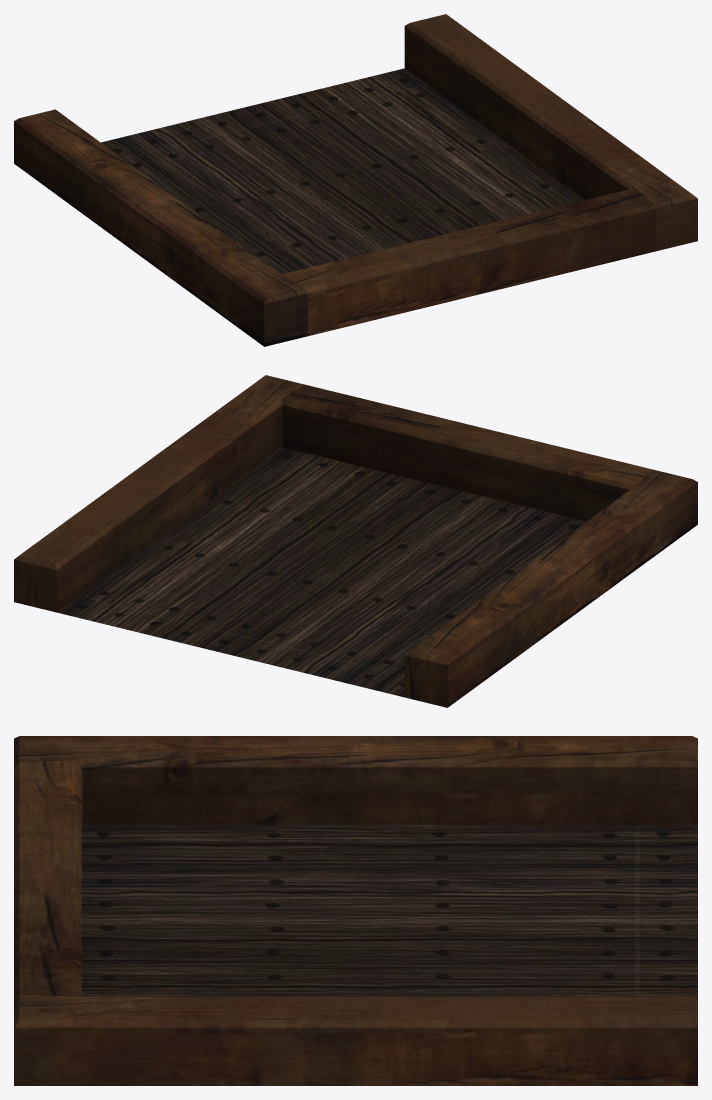
File: Roof001_Flat01.obj
The picture shows the model from 3 angles, top to bottom: view 1: azimuth 30°, elevation 25°; view 2: azimuth 150°, elevation 25°; view 3: azimuth 270°, elevation 25°; orthographic projection. The views are drawn at different scales.
Visible parts, largest first — view 1: Roof001_Flat011; view 2: Roof001_Flat011; view 3: Roof001_Flat011.
Part boxes in pixels (box(x1,y1,x2,y2)): Roof001_Flat011: box(14, 14, 697, 346); Roof001_Flat011: box(14, 375, 697, 707); Roof001_Flat011: box(14, 736, 697, 1085).
Size of the model in its own units: 128 by 13 by 128.
